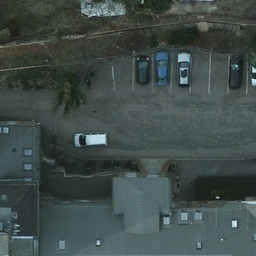car: (154, 53, 171, 87), (227, 58, 244, 89), (177, 54, 190, 87), (136, 55, 150, 84)
van: (74, 133, 106, 147)
